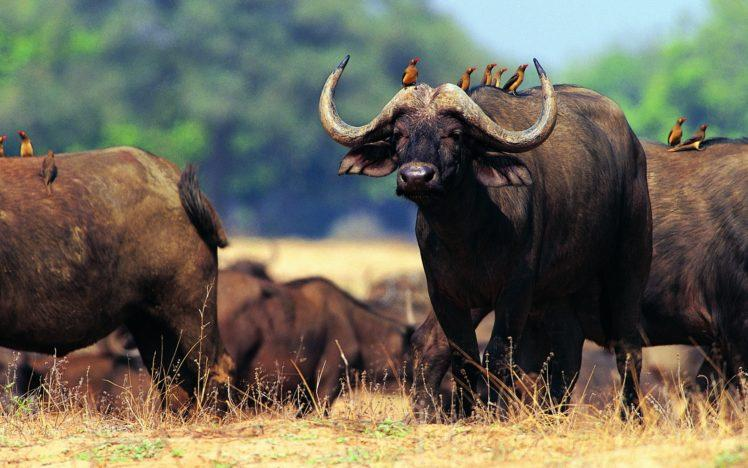Buffalo: (0, 75, 633, 287)
